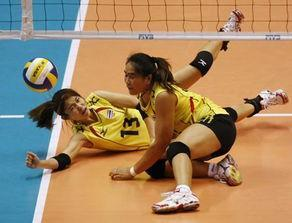Fall-Detected: (105, 51, 279, 216)
